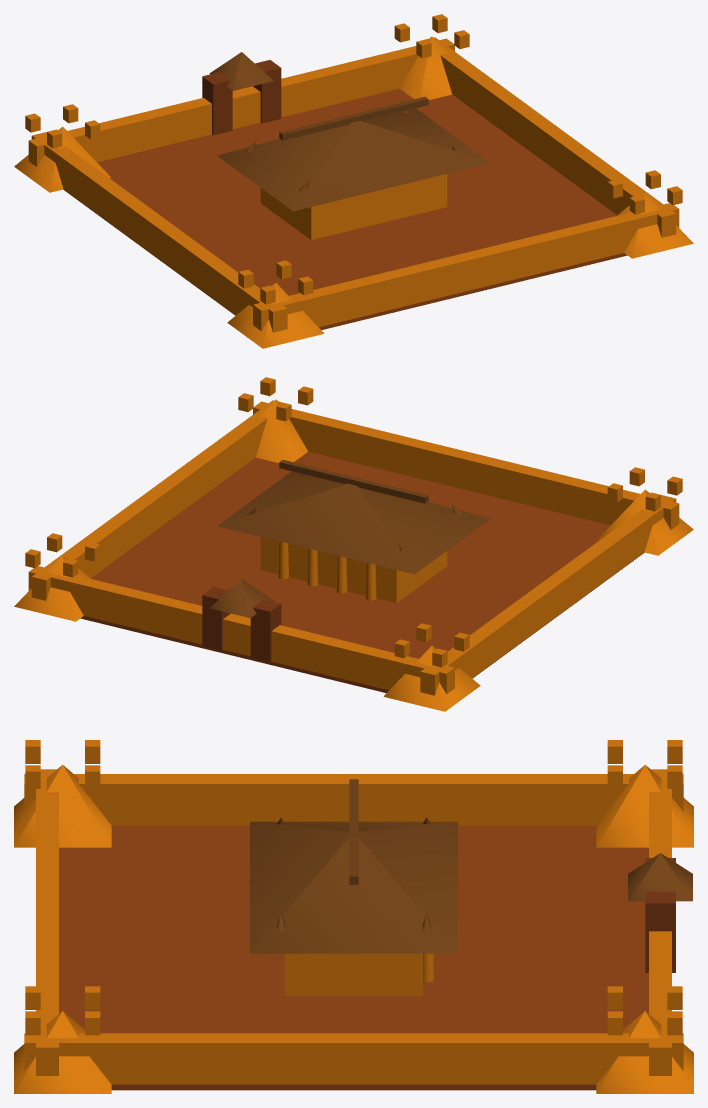
Rendered from danang_museum.glb.
3 renders of one model, top to bottom at view 1: azimuth 30°, elevation 25°; view 2: azimuth 150°, elevation 25°; view 3: azimuth 270°, elevation 25°, orthographic. The views are drawn at different scales.
Size of the model in its own units: 88.73 by 19.1 by 88.73.
